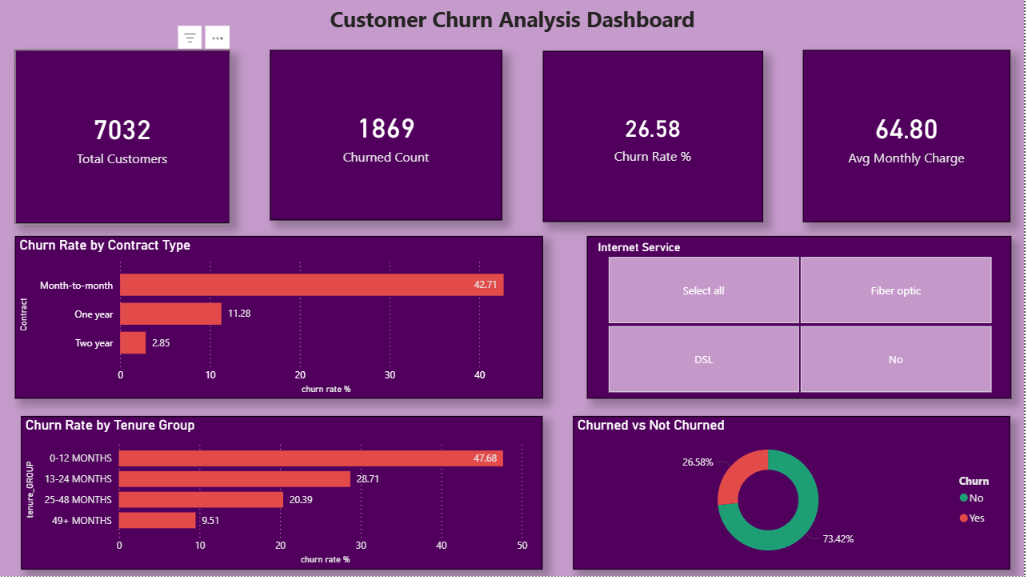

The dashboard page shown, as its layout file describes it:
{"tool":"powerbi","page":{"name":"Churn Dashboard","canvas":[1280,720],"ordinal":0},"visuals":[{"type":"card","fields":{"Values":["telco_cleaned csv.total customers"]},"box":[18.5,63,268.5,216.7],"z":0},{"type":"card","fields":{"Values":["telco_cleaned csv.total churned"]},"box":[337,63,290.7,213],"z":1000},{"type":"card","fields":{"Values":["telco_cleaned csv.churn rate %"]},"box":[678.3,63.3,275,213.3],"z":2000},{"type":"card","fields":{"Values":["telco_cleaned csv.avg monthly charges"]},"box":[1003.7,63,259.3,214.8],"z":3000},{"type":"barChart","title":"Churn Rate by Contract Type","fields":{"Category":["telco_cleaned csv.Contract"],"Y":["telco_cleaned csv.churn rate %"]},"box":[18.3,295,660,203.3],"z":4000},{"type":"donutChart","title":"Churned vs Not Churned","fields":{"Category":["telco_cleaned csv.Churn"],"Y":["telco_cleaned csv.total customers"]},"box":[716.7,520,546.7,191.7],"z":5000},{"type":"clusteredBarChart","title":"Churn Rate by Tenure Group","fields":{"Category":["telco_cleaned csv.tenure_GROUP"],"Y":["telco_cleaned csv.churn rate %"]},"box":[26.7,520,651.7,191.7],"z":6000},{"type":"slicer","fields":{"Values":["telco_cleaned csv.InternetService"]},"box":[733.3,295,530,203.3],"z":7000},{"type":"textbox","box":[18,0,1246,48],"z":8000}]}

Visuals, with their boxes in screenshot pixels (x1, y1, x2, y2), scaled from the page's 1280x720 canvas onto the 1027x577 screenshot:
card - telco_cleaned csv.total customers: bbox=[15, 50, 230, 224]
card - telco_cleaned csv.total churned: bbox=[270, 50, 504, 221]
card - telco_cleaned csv.churn rate %: bbox=[544, 51, 765, 222]
card - telco_cleaned csv.avg monthly charges: bbox=[805, 50, 1013, 223]
"Churn Rate by Contract Type" barChart: bbox=[15, 236, 544, 399]
"Churned vs Not Churned" donutChart: bbox=[575, 417, 1014, 570]
"Churn Rate by Tenure Group" clusteredBarChart: bbox=[21, 417, 544, 570]
slicer - telco_cleaned csv.InternetService: bbox=[588, 236, 1014, 399]
textbox: bbox=[14, 0, 1014, 38]
